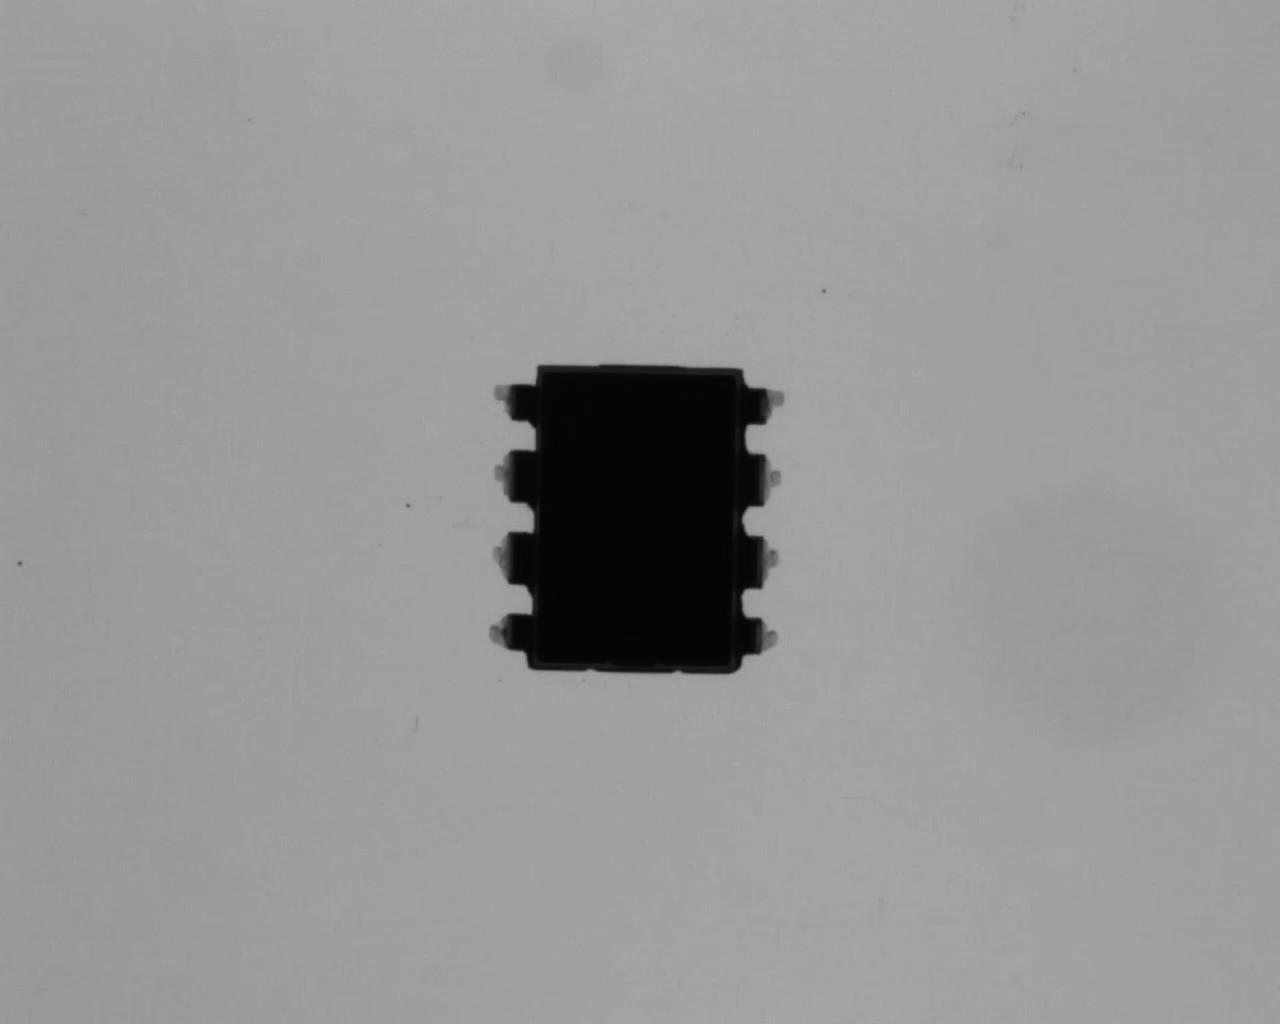Leg: (485, 369, 543, 428), (484, 444, 539, 507), (484, 530, 546, 583), (737, 529, 782, 596), (481, 608, 540, 657), (742, 446, 786, 511), (735, 613, 786, 661), (743, 380, 790, 428)
